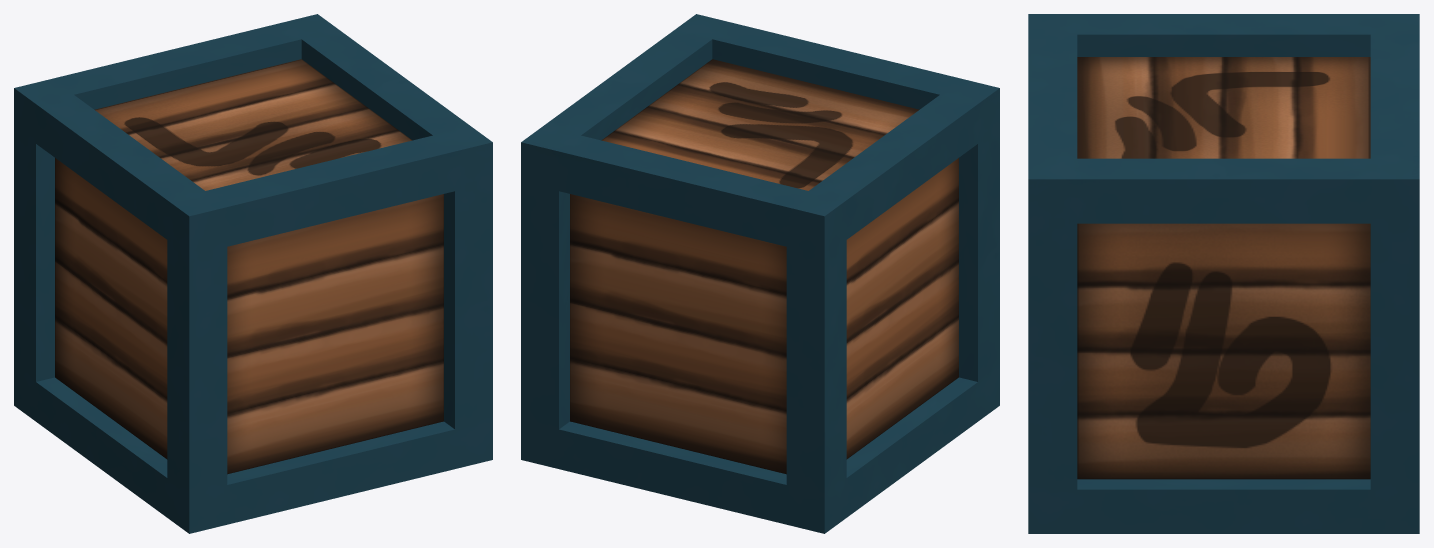
File: Caisse_Bleue.FBX
3 renders of one model, left to right at view 1: azimuth 30°, elevation 25°; view 2: azimuth 150°, elevation 25°; view 3: azimuth 270°, elevation 25°, orthographic. The views are drawn at different scales.
Parts seen in each view (by area): view 1: Caisse_Bleue; view 2: Caisse_Bleue; view 3: Caisse_Bleue.
Boxes of the visible parts, left/top/right/bottom form: Caisse_Bleue: left=14, top=14, right=492, bottom=533; Caisse_Bleue: left=521, top=14, right=999, bottom=533; Caisse_Bleue: left=1028, top=14, right=1419, bottom=533.
Size of the model in its own units: 1.54 by 1.54 by 1.54.
